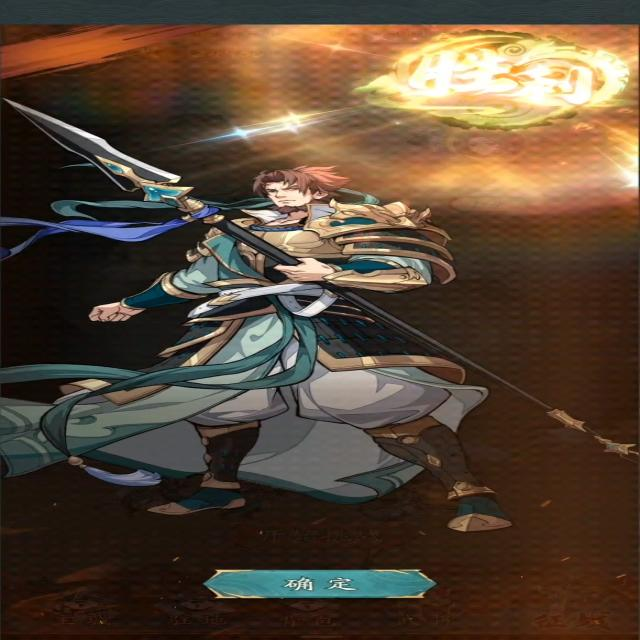operation-confirm: (202, 567, 438, 601)
